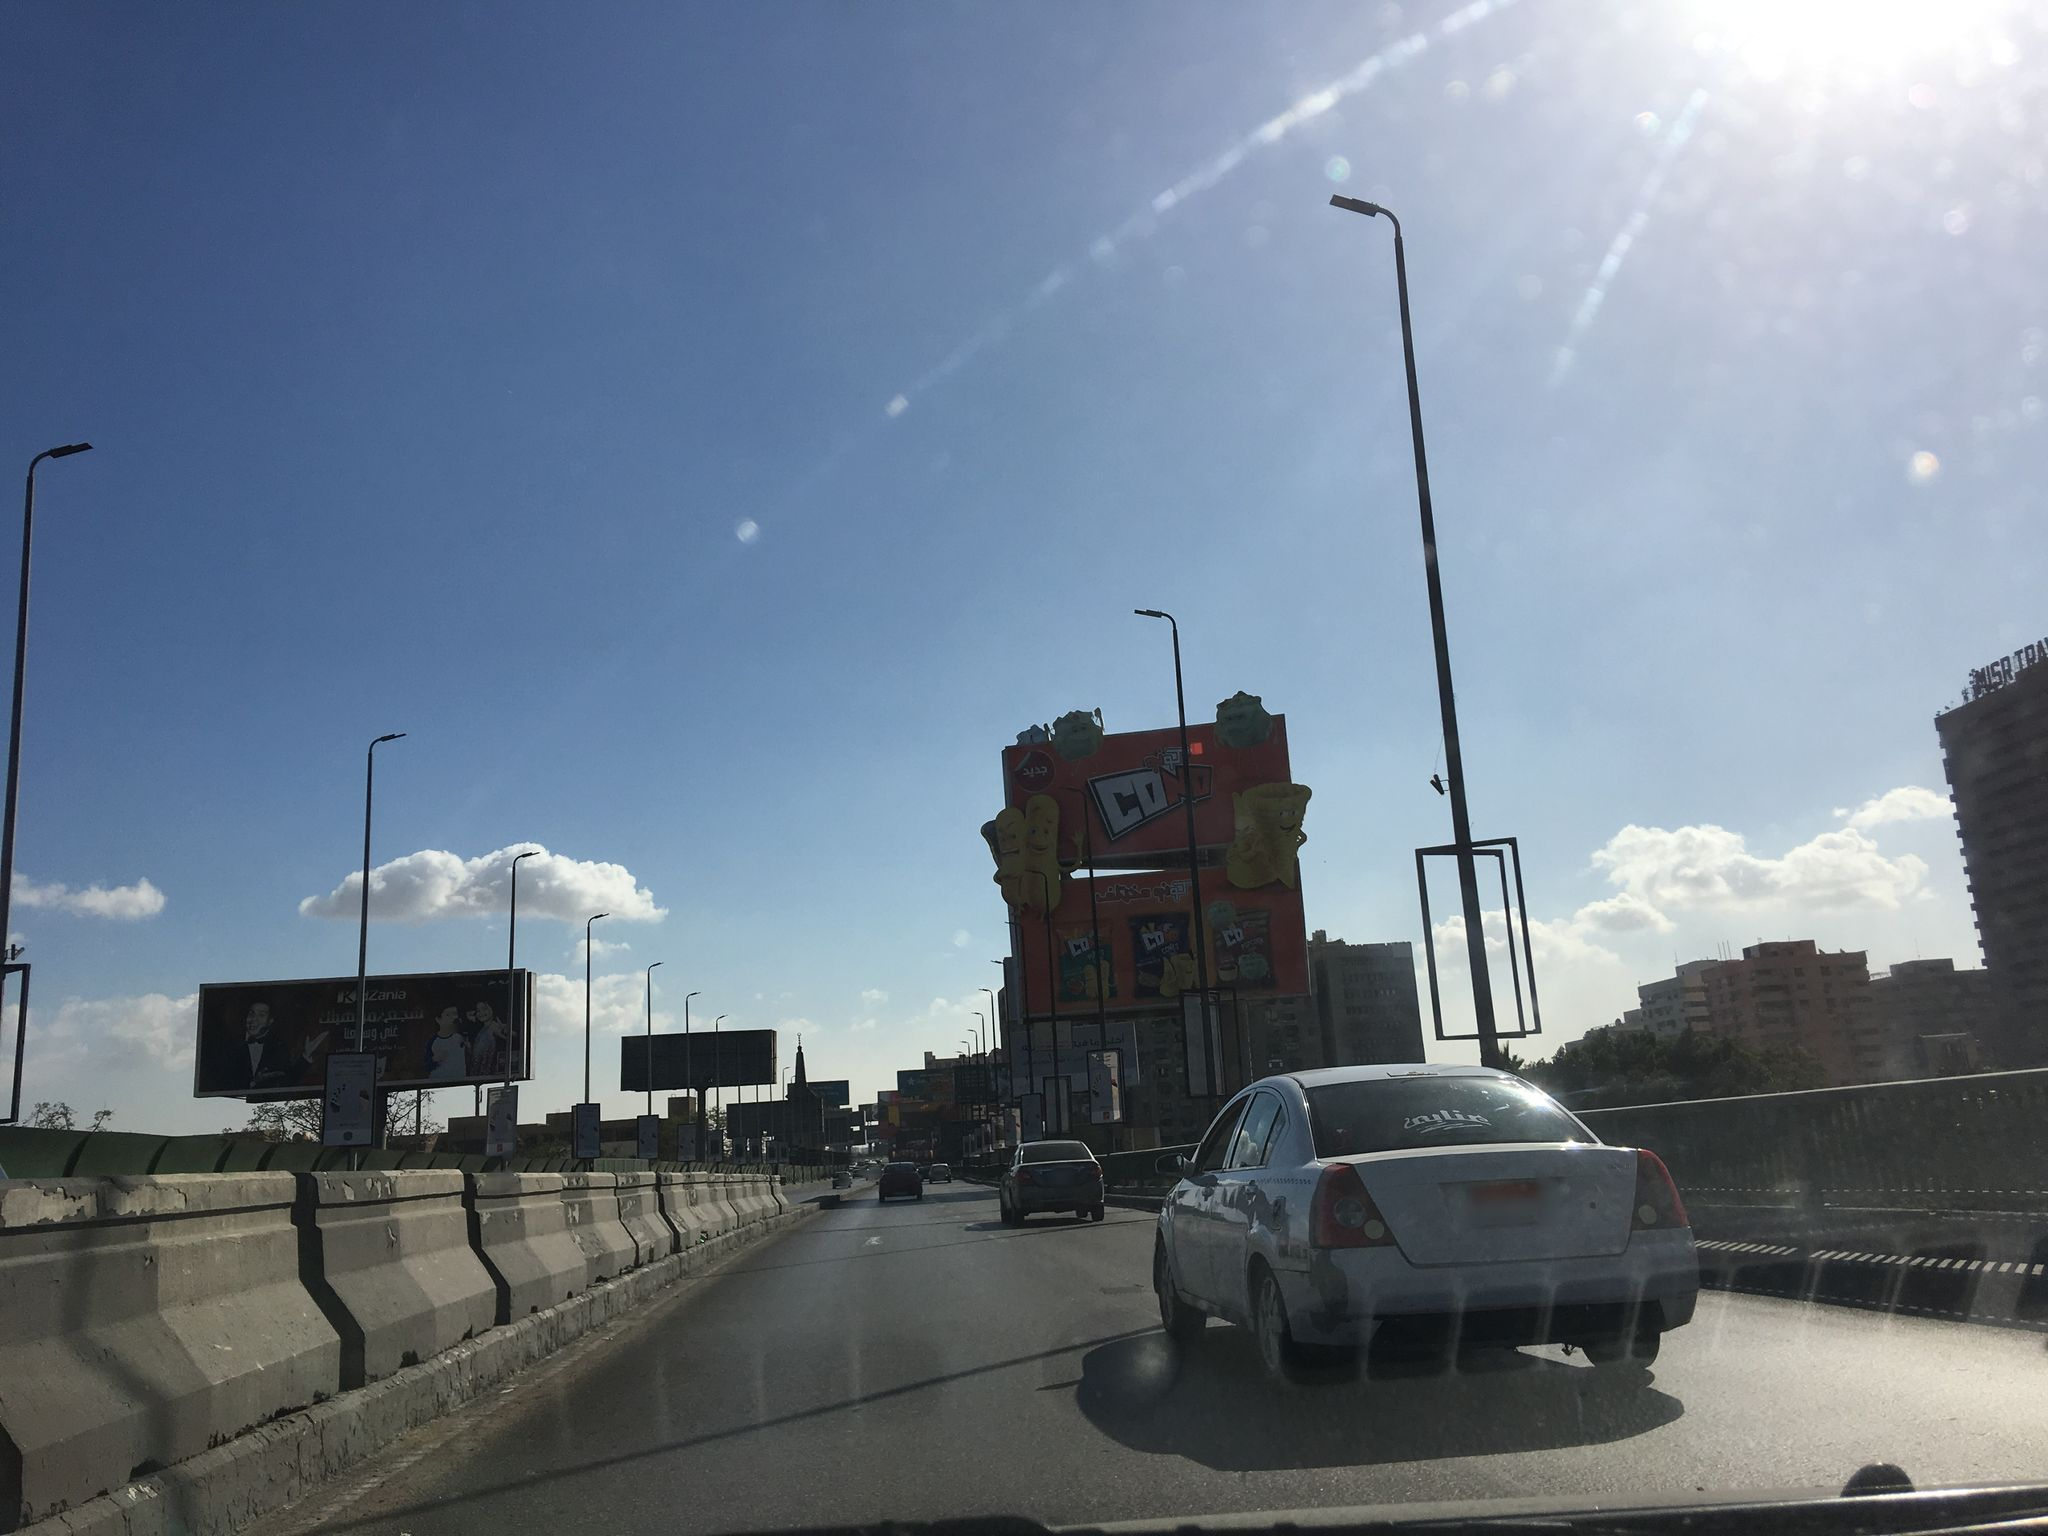car: (1147, 1058, 1700, 1371), (998, 1139, 1105, 1225), (877, 1162, 922, 1200), (927, 1163, 951, 1183)
